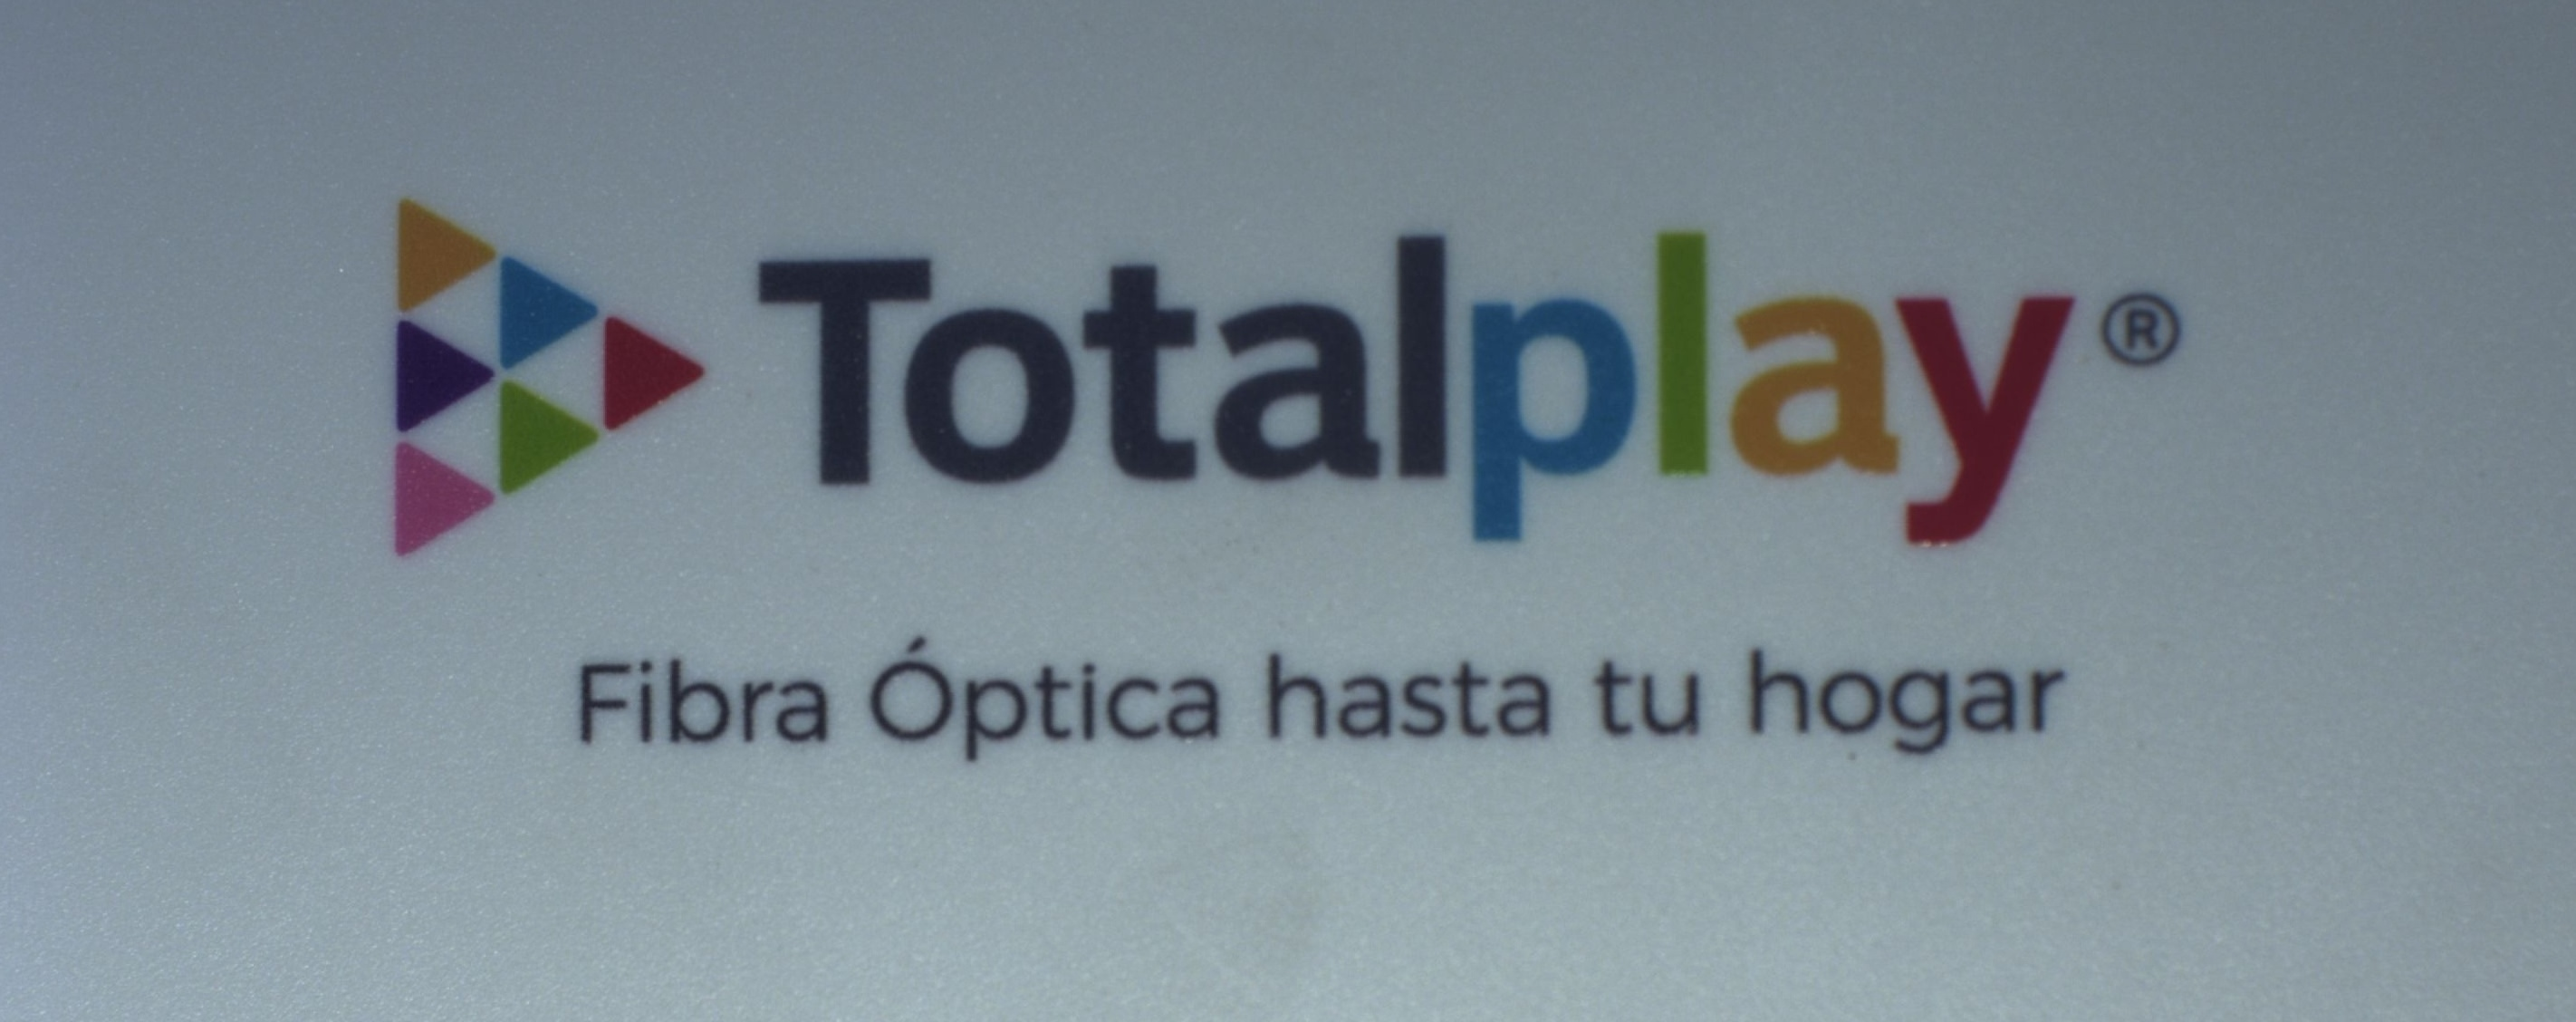BP_TotalPlay: (370, 179, 2196, 771)
